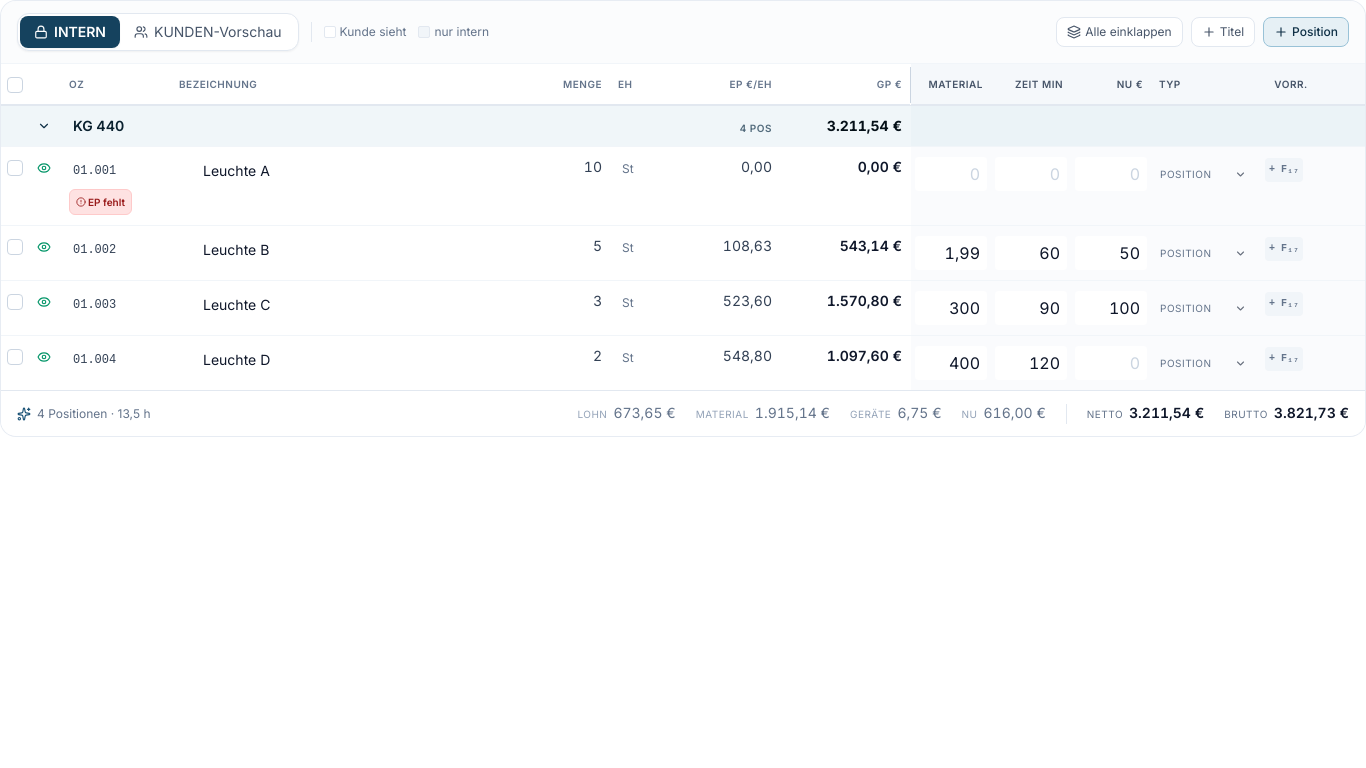
Test case: PositionTableV2 bulk-edit edges — select-all toggle off › Select all then click select-all again → 0 selected, bar gone
Click the checkbox with test id "v2-select-all" at [15, 85], box [7, 77, 23, 93]
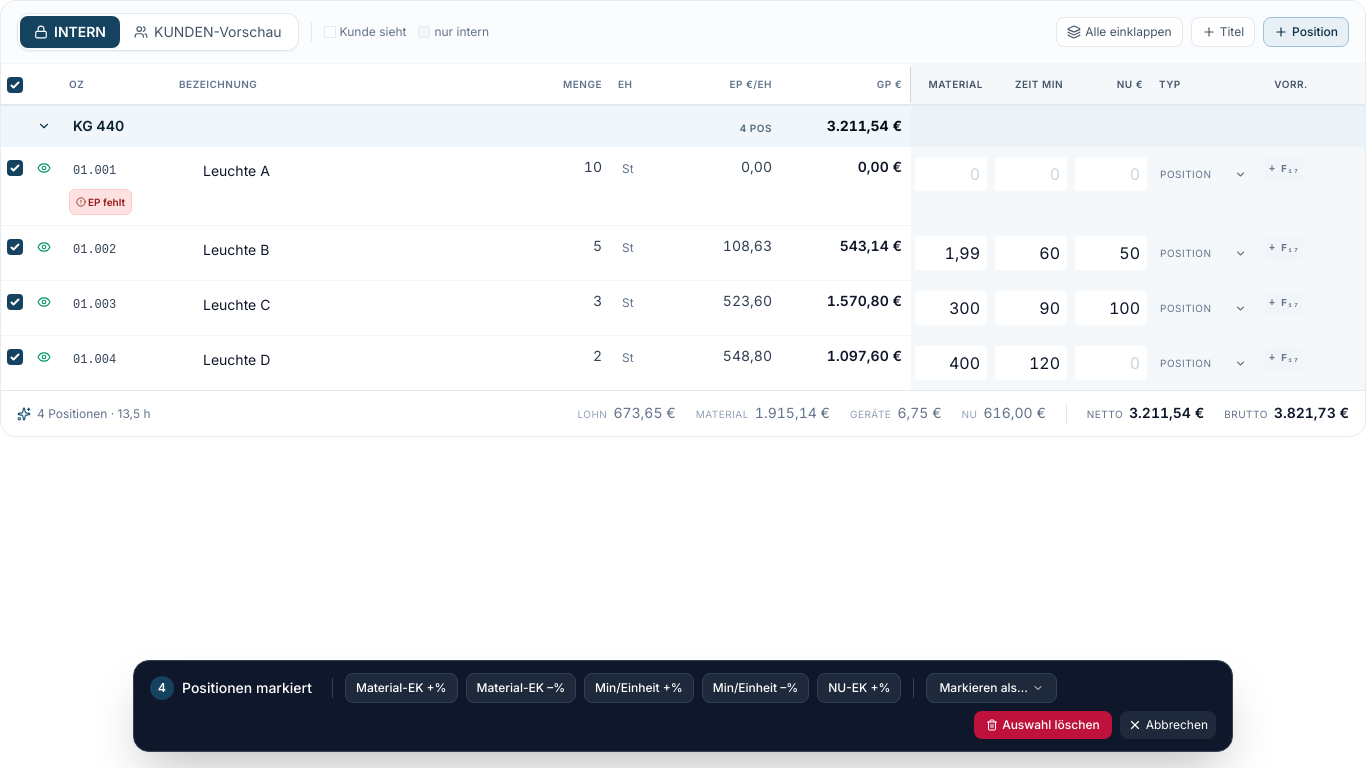
Expected: the checkbox with test id "v2-select-all" is checked
Expected: the element with test id "v2-bulk-bar" shows "4", [158, 680, 166, 695]
# Click again → clears
Click the checkbox with test id "v2-select-all" at [15, 85], box [7, 77, 23, 93]
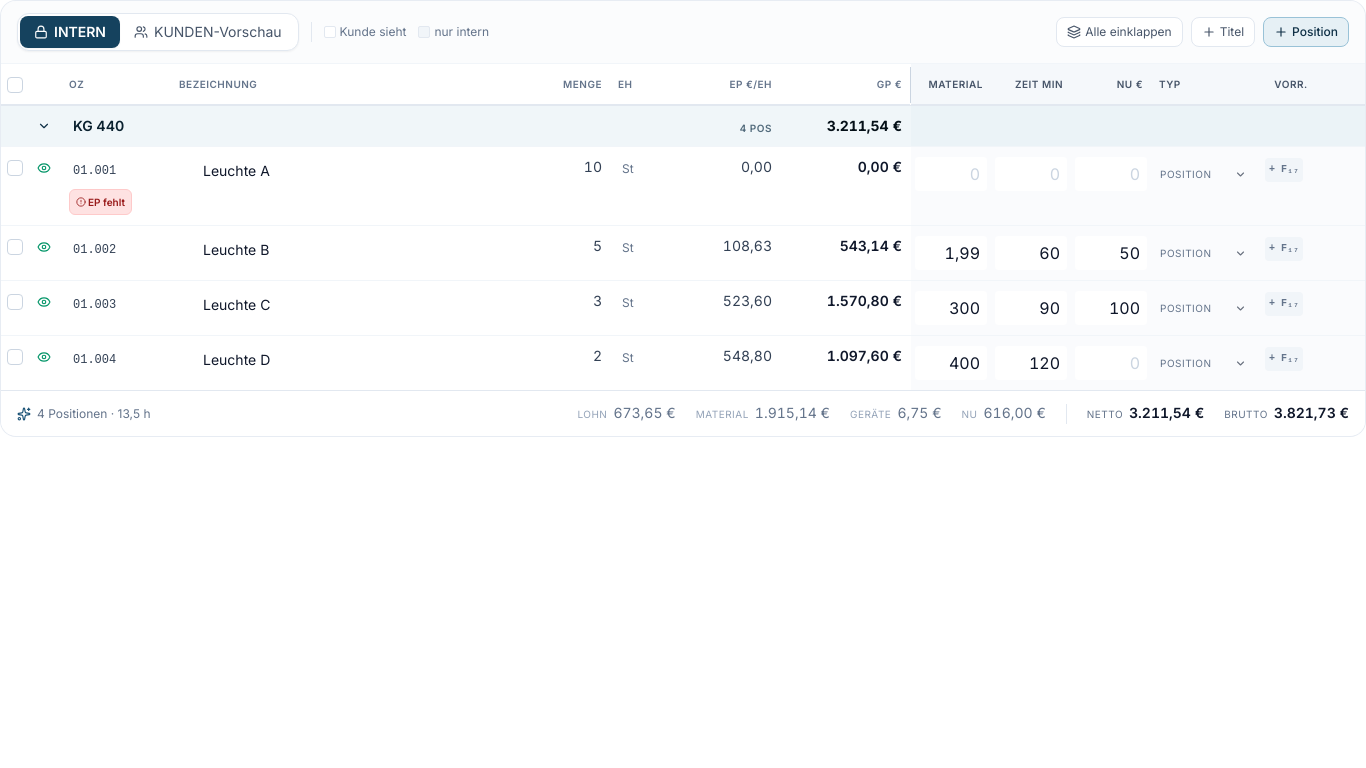
Expected: the element with test id "v2-bulk-bar" is gone
Expected: the checkbox with test id "v2-select-row-r1" is not checked, [7, 160, 23, 176]
Expected: the checkbox with test id "v2-select-row-r2" is not checked, [7, 240, 23, 256]
